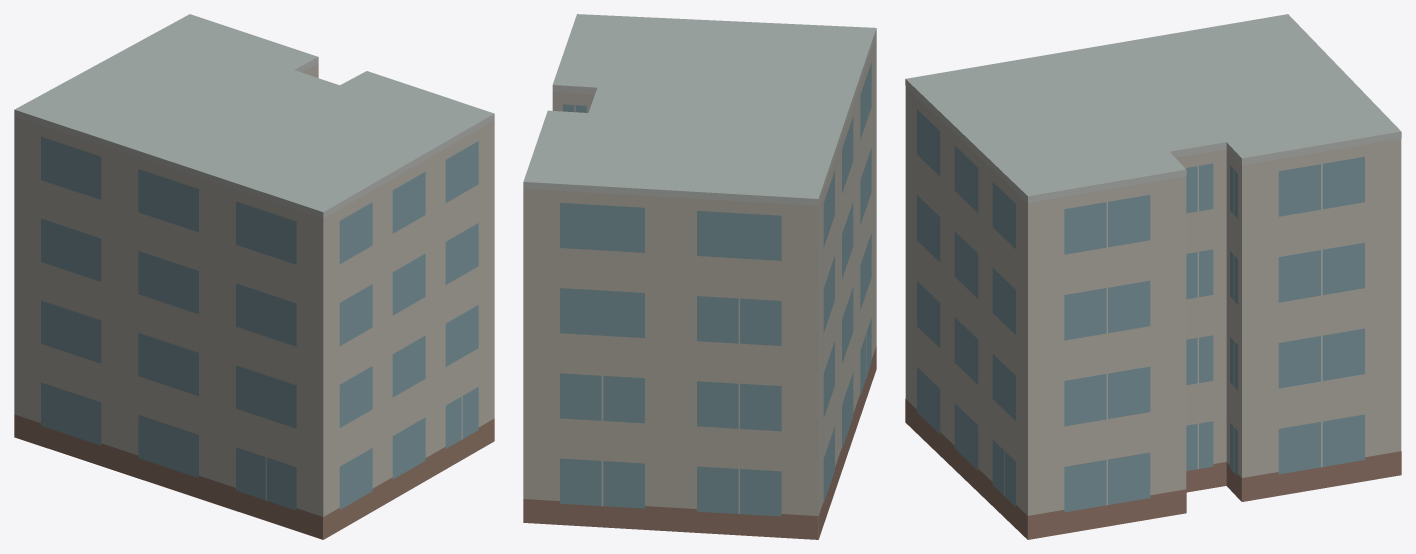
File: survey-upis-32818886.glb
The picture shows the model from 3 angles, left to right: view 1: azimuth 30°, elevation 25°; view 2: azimuth 150°, elevation 25°; view 3: azimuth 270°, elevation 25°; orthographic projection. The views are drawn at different scales.
Parts seen in each view (by area): view 1: survey-upis-32818886.tmp; view 2: survey-upis-32818886.tmp; view 3: survey-upis-32818886.tmp.
Part boxes in pixels (x1,y1,x2,y2): survey-upis-32818886.tmp: [14, 14, 494, 539]; survey-upis-32818886.tmp: [523, 14, 876, 539]; survey-upis-32818886.tmp: [905, 14, 1401, 539].
Size of the model in its own units: 13.89 by 12.2 by 15.97.
